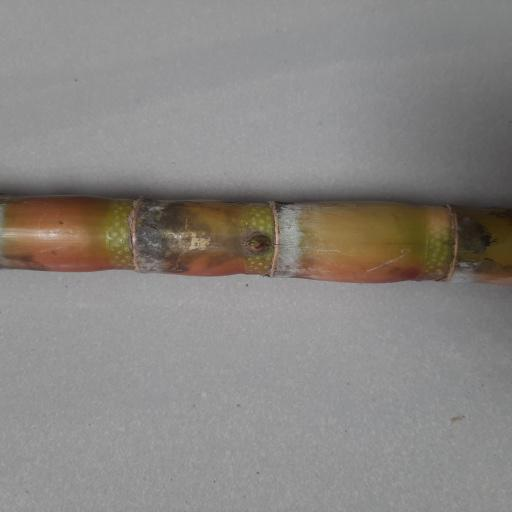Bud: (245, 234, 272, 254)
